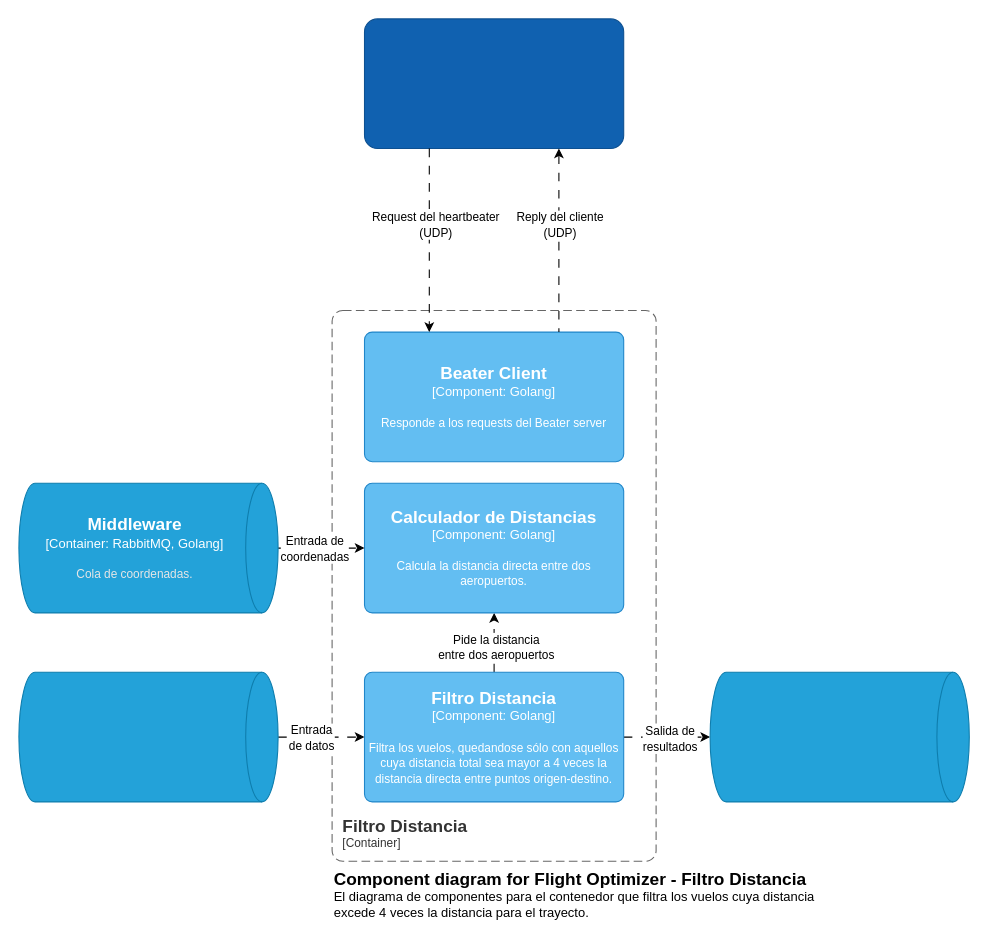
This 988x945 diagram has some shape labels left out. Each missing label, with the box of its shape:
Heartbeater [Beater Server] Heartbeater que controla el estado del worker: (363, 18, 624, 148)
Middleware [Container: RabbitMQ, Golang] Cola de distancias.: (18, 671, 278, 802)
Middleware [Container: RabbitMQ, Golang] Cola de resultados.: (709, 671, 969, 802)
